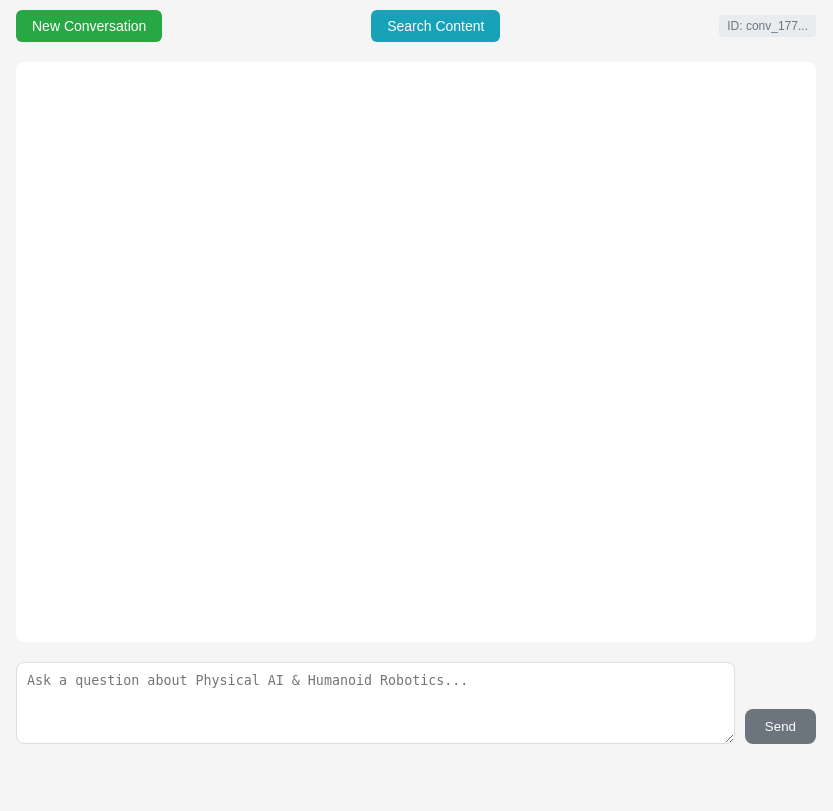
Test: ChatInterface Component › handles API errors gracefully
This screenshot has width=833, height=811.
(page scrolled)
// Type and send a message
In the text box with placeholder "Ask a question about Physical AI & Humanoid Robotics...": (375, 703) left=16, top=662, right=735, bottom=744, type "Error test"
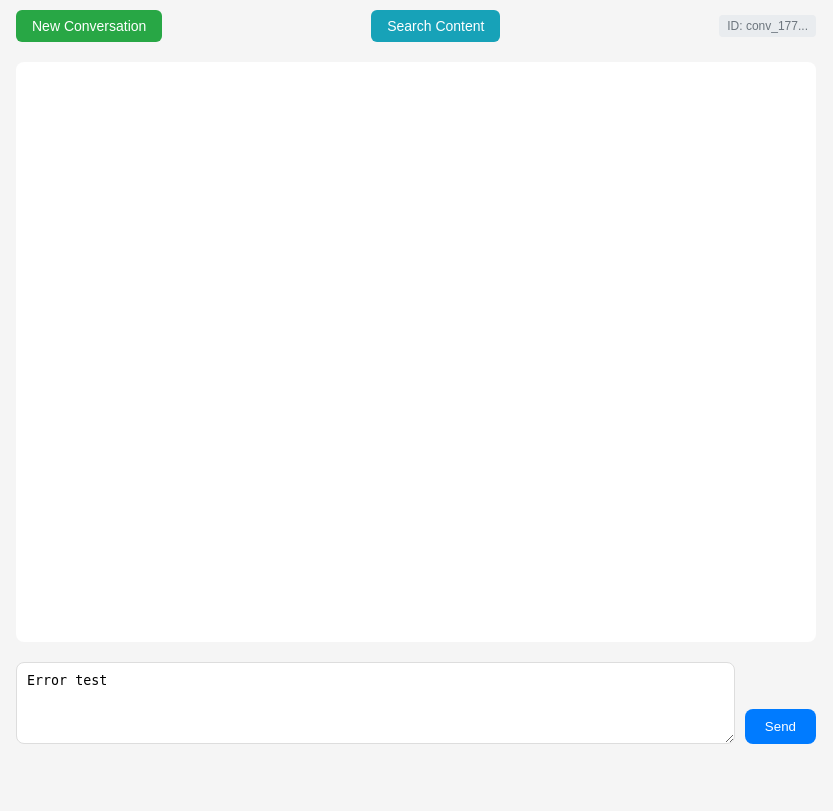
Click the button "Send": (780, 726) left=745, top=709, right=816, bottom=744
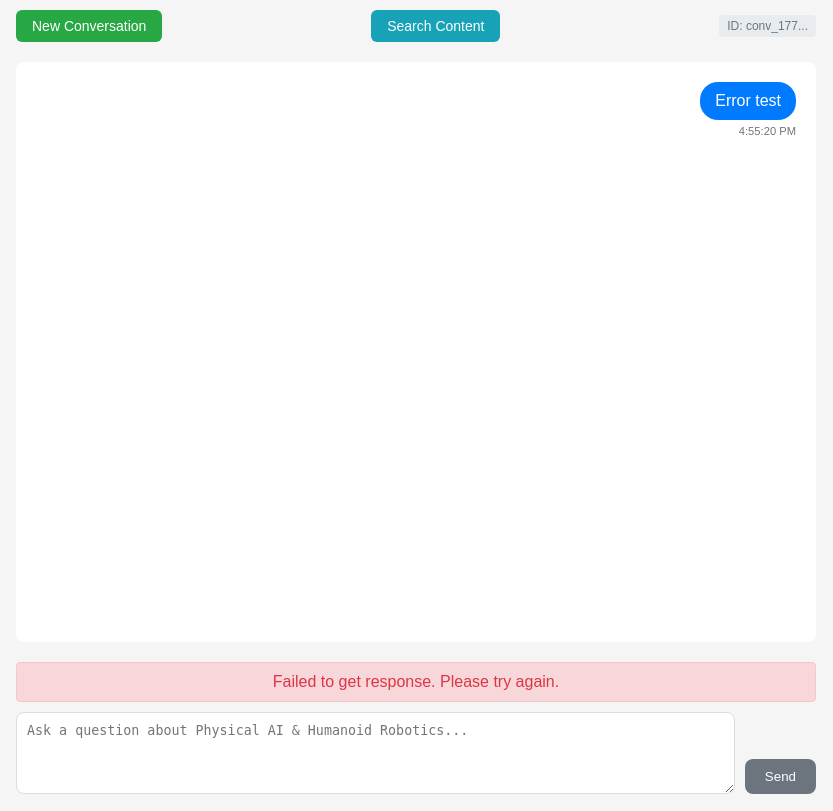
expect the text "Failed to get response. Please try again." is shown: met, box left=16, top=662, right=816, bottom=702
